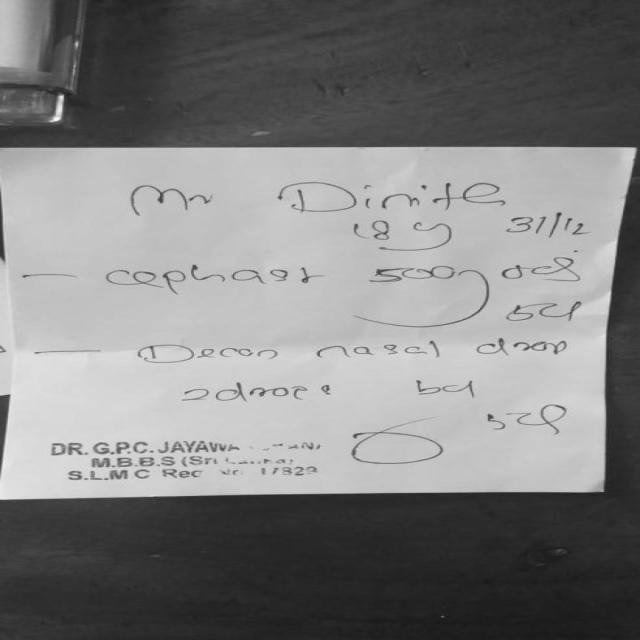Prescription: (135, 338, 575, 432), (100, 254, 585, 330)
